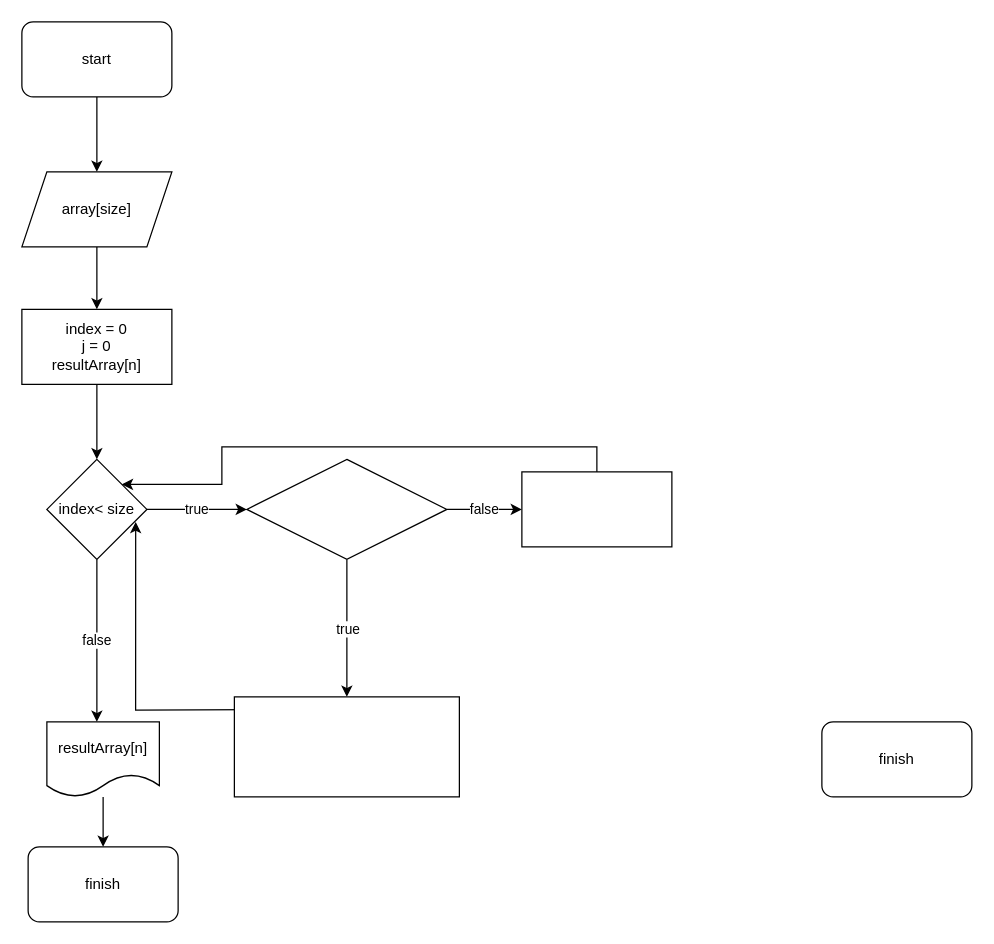
The diagram is 994 pixels wide and 944 high, and some of its shapes have lost their labels. Here are the shapes that lost their labels. From the top down, the centre of each, then its label:
the point at 346,508: array[index]length <=3
the point at 596,509: index= index + 1
the point at 346,746: index= index+1 resultArray[j] = array[index] j = j+1
